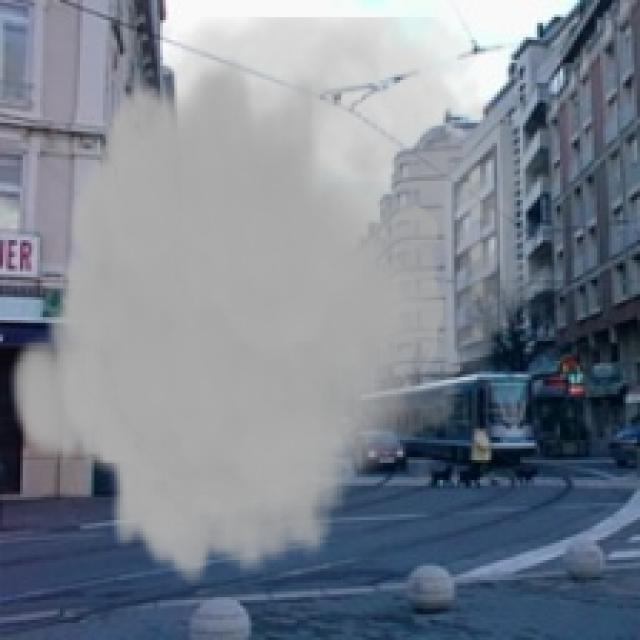Smoke: (6, 17, 563, 586)
